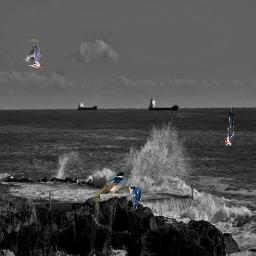Swallow: (93, 171, 126, 201), (129, 185, 141, 211)
Woodpecker: (23, 39, 42, 68), (225, 106, 234, 146)
